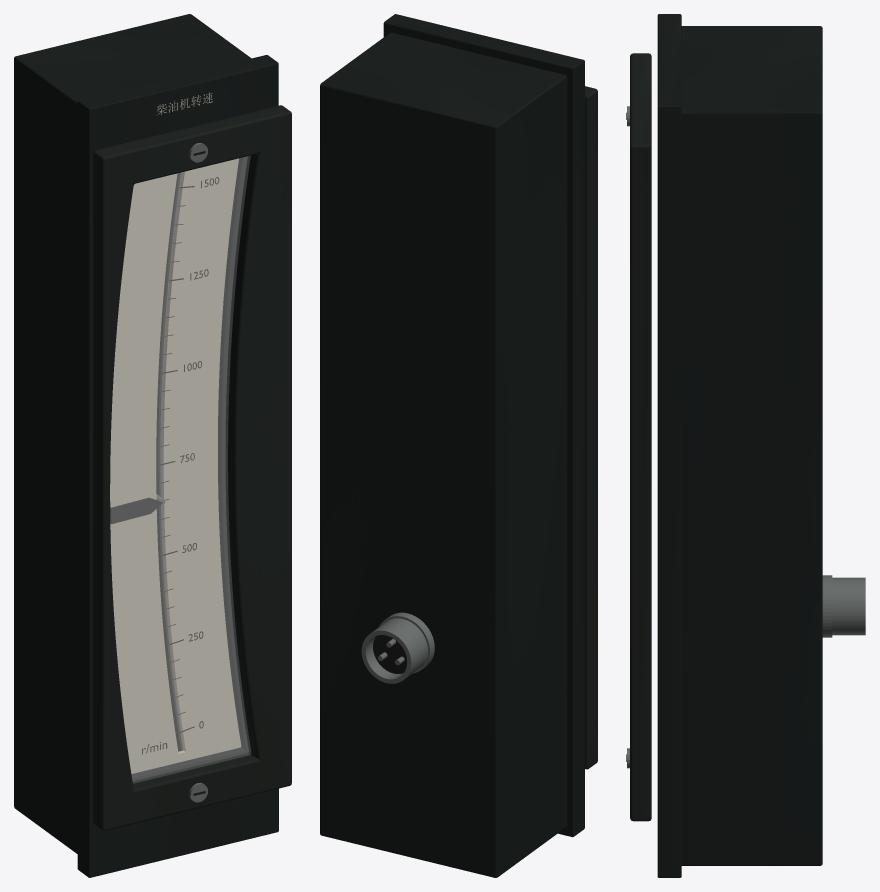
Rendered from diesel_tachometer_study.glb.
The picture shows the model from 3 angles, left to right: view 1: azimuth 30°, elevation 25°; view 2: azimuth 150°, elevation 25°; view 3: azimuth 270°, elevation 25°; orthographic projection.
Visible parts, largest first — view 1: Fixed_Protective_Glass, Fixed_Raised_Metal_Bezel, Fixed_Rear_Housing, Fixed_Scale_Window, Fixed_Front_Frame, Fixed_Curved_Guide_Rail.001, RPM_Reading_Head; view 2: Fixed_Rear_Housing, Fixed_Front_Frame, Fixed_Raised_Metal_Bezel, RPM_Connector_Shell, RPM_Recessed_Contact_Insert, RPM_Rear_Connector_Seat; view 3: Fixed_Rear_Housing, Fixed_Front_Frame, Fixed_Raised_Metal_Bezel, RPM_Connector_Shell, RPM_Rear_Connector_Seat.
Boxes of the visible parts, x1,y1,x2,y2 form: Fixed_Protective_Glass: (110, 156, 250, 783); Fixed_Raised_Metal_Bezel: (93, 105, 291, 830); Fixed_Rear_Housing: (14, 14, 251, 853); Fixed_Scale_Window: (110, 158, 241, 773); Fixed_Front_Frame: (77, 55, 278, 877); Fixed_Curved_Guide_Rail.001: (158, 172, 183, 750); RPM_Reading_Head: (110, 497, 162, 523); Fixed_Rear_Housing: (320, 32, 567, 877); Fixed_Front_Frame: (383, 14, 584, 837); Fixed_Raised_Metal_Bezel: (585, 86, 597, 769); RPM_Connector_Shell: (361, 618, 427, 683); RPM_Recessed_Contact_Insert: (373, 635, 406, 673); RPM_Rear_Connector_Seat: (379, 612, 434, 673); Fixed_Rear_Housing: (681, 26, 822, 865); Fixed_Front_Frame: (657, 14, 681, 877); Fixed_Raised_Metal_Bezel: (630, 53, 651, 821); RPM_Connector_Shell: (832, 577, 865, 635); RPM_Rear_Connector_Seat: (822, 575, 832, 637).
Bounding box in the file's own units: 0.046 × 0.178 × 0.0501.
9 materials, 3 textured.
